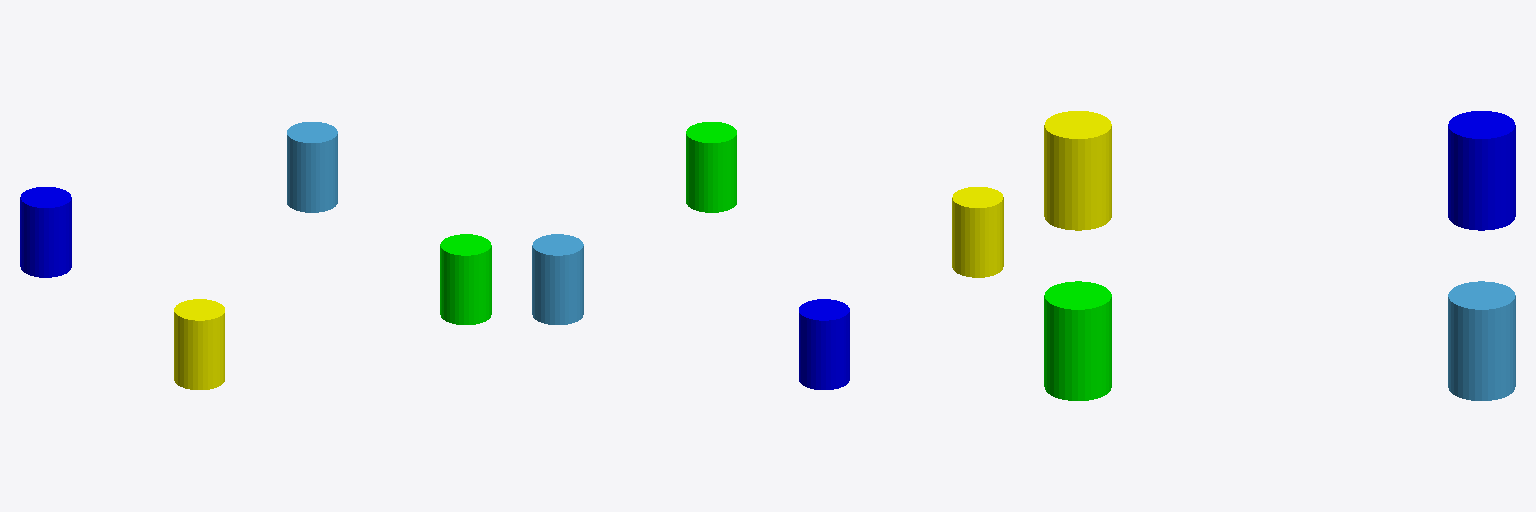
robot.urdf — table:
<?xml version="1.0"?>
<robot name="table">
    <link name="world"></link>
    
    <material name="green">
        <color rgba="0.0 1.0 0.0 1" />
    </material>

    <material name="blue">
        <color rgba="0.0 0.0 1.0 1"/>
    </material>

    <material name="yellow">
        <color rgba="1.0 1.0 0.0 1"/>
    </material>

    <material name="red">
        <color rgba="1.0 0.0 0.0 1"/>
    </material>

    <material name="black">
        <color rgba="0.0 0.0 0.0 1"/>
    </material>

    <material name="orange">
        <color rgba="255 165 0.0 1"/>
    </material>

    <!-- Table 1 -->
    <link name="table_1_link">
        <visual>
            <origin xyz="0.6 0.6 0.15" rpy="0 0 0"/>
            <geometry>
                <cylinder radius="0.1" length="0.3"/>
            </geometry>
            <material name="white"/>
        </visual>
        <collision>
            <origin xyz="0.6 0.6 0.15" rpy="0 0 0"/>
            <geometry>
                <cylinder radius="0.1" length="0.3"/>
            </geometry>
            <surface>
                <friction>
                    <ode>
                        <mu>1</mu> <!-- 마찰 계수 설정 -->
                        <mu2>1</mu2>
                    </ode>
                </friction>
            </surface>
        </collision>
        <inertial>
            <mass value="2.0"/>
            <origin xyz="0 0 0"/>
            <inertia ixx="0.002" ixy="0.0" ixz="0.0" iyy="0.002" iyz="0.0" izz="0.002"/>
        </inertial>
    </link>

    <!-- Table 2 -->
    <link name="table_2_link">
        <visual>
            <origin xyz="-0.6 0.6 0.15" rpy="0 0 0"/>
            <geometry>
                <cylinder radius="0.1" length="0.3"/>
            </geometry>
            <material name="blue"/>
        </visual>
        <collision>
            <origin xyz="-0.6 0.6 0.15" rpy="0 0 0"/>
            <geometry>
                <cylinder radius="0.1" length="0.3"/>
            </geometry>
            <surface>
                <friction>
                    <ode>
                        <mu>1</mu> <!-- 마찰 계수 설정 -->
                        <mu2>1</mu2>
                    </ode>
                </friction>
            </surface>
        </collision>
        <inertial>
            <mass value="2.0"/>
            <origin xyz="0 0 0"/>
            <inertia ixx="0.002" ixy="0.0" ixz="0.0" iyy="0.002" iyz="0.0" izz="0.002"/>
        </inertial>
    </link>

    <!-- Table 3 -->
    <link name="table_3_link">
        <visual>
            <origin xyz="-0.6 -0.6 0.15" rpy="0 0 0"/>
            <geometry>
                <cylinder radius="0.1" length="0.3"/>
            </geometry>
            <material name="yellow"/>
        </visual>
        <collision>
            <origin xyz="-0.6 -0.6 0.15" rpy="0 0 0"/>
            <geometry>
                <cylinder radius="0.1" length="0.3"/>
            </geometry>
            <surface>
                <friction>
                    <ode>
                        <mu>1</mu> <!-- 마찰 계수 설정 -->
                        <mu2>1</mu2>
                    </ode>
                </friction>
            </surface>
        </collision>
        <inertial>
            <mass value="2.0"/>
            <origin xyz="0 0 0"/>
            <inertia ixx="0.002" ixy="0.0" ixz="0.0" iyy="0.002" iyz="0.0" izz="0.002"/>
        </inertial>
    </link>

    <!-- Table 4 -->
    <link name="table_4_link">
        <visual>
            <origin xyz="0.6 -0.6 0.15" rpy="0 0 0"/>
            <geometry>
                <cylinder radius="0.1" length="0.3"/>
            </geometry>
            <material name="green"/>
        </visual>
        <collision>
            <origin xyz="0.6 -0.6 0.15" rpy="0 0 0"/>
            <geometry>
                <cylinder radius="0.1" length="0.3"/>
            </geometry>
            <surface>
                <friction>
                    <ode>
                        <mu>1</mu> <!-- 마찰 계수 설정 -->
                        <mu2>1</mu2>
                    </ode>
                </friction>
            </surface>
        </collision>
        <inertial>
            <mass value="2.0"/>
            <origin xyz="0 0 0"/>
            <inertia ixx="0.002" ixy="0.0" ixz="0.0" iyy="0.002" iyz="0.0" izz="0.002"/>
        </inertial>
    </link>

    <joint name="table_world_link1" type="fixed">
        <origin xyz="0 0 0" rpy="0 0 0"/>
        <parent link="world"/>
        <child link="table_1_link"/>
    </joint>
    <joint name="table_world_link2" type="fixed">
        <origin xyz="0 0 0" rpy="0 0 0"/>
        <parent link="world"/>
        <child link="table_2_link"/>
    </joint>
    <joint name="table_world_link3" type="fixed">
        <origin xyz="0 0 0" rpy="0 0 0"/>
        <parent link="world"/>
        <child link="table_3_link"/>
    </joint>
    <joint name="table_world_link4" type="fixed">
        <origin xyz="0 0 0" rpy="0 0 0"/>
        <parent link="world"/>
        <child link="table_4_link"/>
    </joint>


    
    <gazebo reference="table_1_link">
        <material>Gazebo/White</material>
    </gazebo>
    <gazebo reference="table_2_link">
        <material>Gazebo/Blue</material>
    </gazebo>
    <gazebo reference="table_3_link">
        <material>Gazebo/Yellow</material>
    </gazebo>
    <gazebo reference="table_4_link">
        <material>Gazebo/Green</material>
    </gazebo>
</robot>

--- Render facts (derived) ---
The picture shows the robot from 3 angles, left to right: view 1: azimuth 30°, elevation 25°; view 2: azimuth 150°, elevation 25°; view 3: azimuth 270°, elevation 25°; orthographic projection.
Model table with 5 links and 4 joints (4 fixed), rooted at world, posed all joints at 0.
Links seen in each view (by area): view 1: table_2_link, table_4_link, table_1_link, table_3_link; view 2: table_1_link, table_3_link, table_2_link, table_4_link; view 3: table_1_link, table_2_link, table_3_link, table_4_link.
Link boxes in pixels (<box>): table_2_link: <box>20,187,71,277</box>; table_4_link: <box>440,234,491,324</box>; table_1_link: <box>287,122,337,212</box>; table_3_link: <box>174,299,224,389</box>; table_1_link: <box>532,234,583,324</box>; table_3_link: <box>952,187,1003,277</box>; table_2_link: <box>799,299,849,389</box>; table_4_link: <box>686,122,736,212</box>; table_1_link: <box>1448,281,1515,400</box>; table_2_link: <box>1448,111,1515,230</box>; table_3_link: <box>1044,111,1111,230</box>; table_4_link: <box>1044,281,1111,400</box>.
Size in the robot's own frame: 1.4 by 1.4 by 0.3 metres.
Geometry: primitives only (box / cylinder / sphere), no mesh files.
